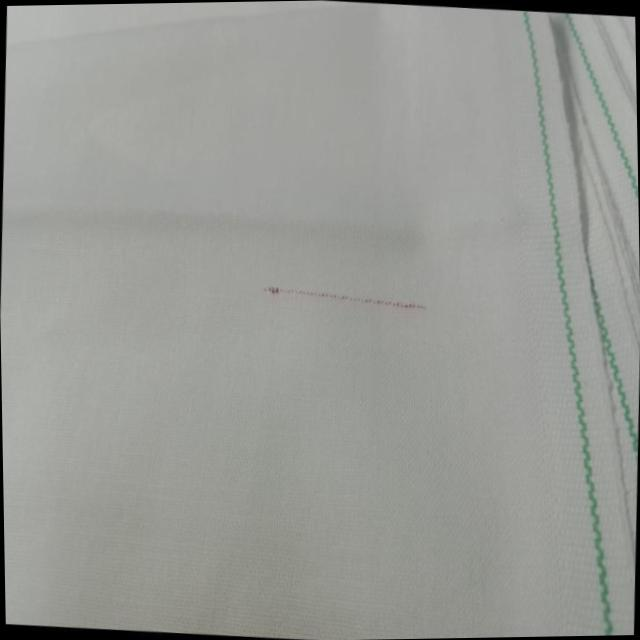contamination: (260, 276, 433, 324)
